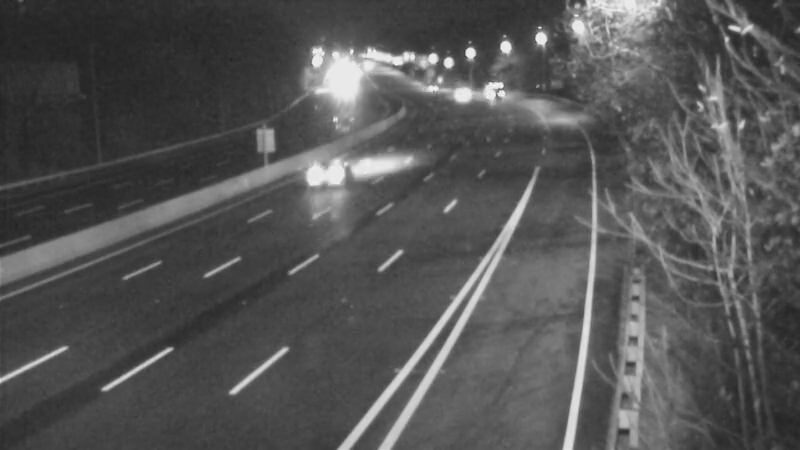vehicle: (291, 137, 371, 217), (402, 62, 452, 112), (471, 65, 521, 115), (439, 70, 489, 120), (316, 61, 366, 111)
